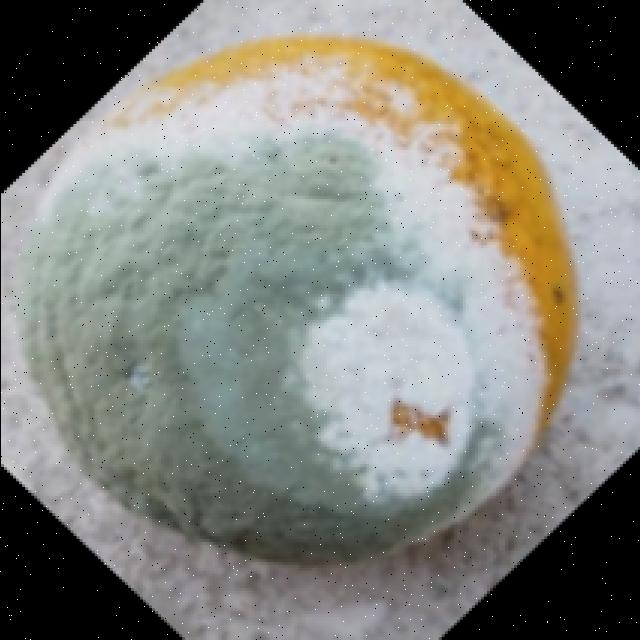Rotten: (14, 36, 576, 568)
